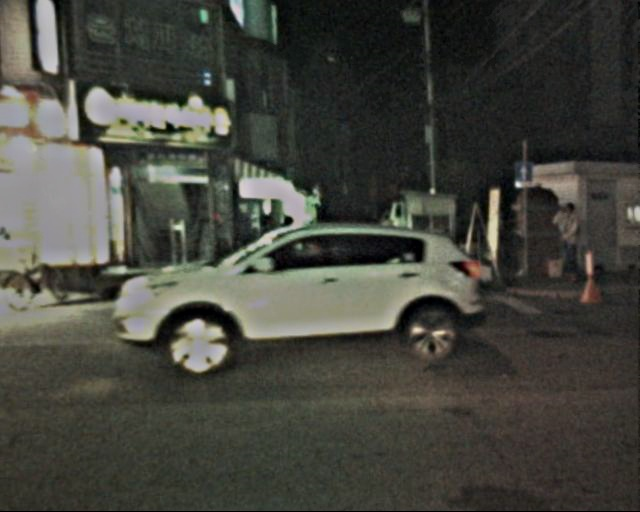person: (546, 201, 585, 290)
